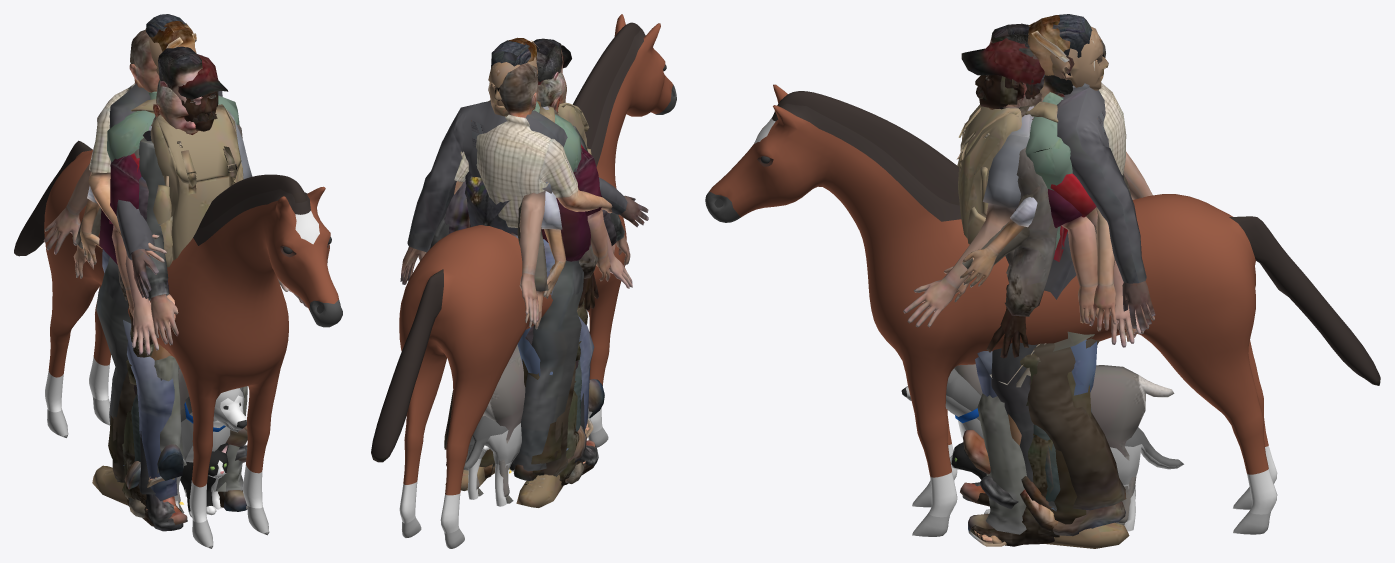
Rendered from walk.glb.
The picture shows the model from 3 angles, left to right: view 1: azimuth 30°, elevation 25°; view 2: azimuth 150°, elevation 25°; view 3: azimuth 270°, elevation 25°; orthographic projection. The views are drawn at different scales.
Visible parts, largest first — view 1: wk_donkey, wk_survie, wk_ped8, wk_ped1, wk_ped3, wk_ped9, wk_ped6, wk_ba, wk_ped2, wk_dog, wk_ped4, wk_ped7 (+3 smaller); view 2: wk_donkey, wk_ped1, wk_ped8, wk_ped9, wk_ped3, wk_survie, wk_ba, wk_dog, wk_goat, wk_ped4, wk_ped7, wk_ped6 (+3 smaller); view 3: wk_donkey, wk_ped3, wk_ped9, wk_ba, wk_survie, wk_ped6, wk_ped8, wk_ped7, wk_goat, wk_ped4, wk_dog, wk_ped1 (+1 smaller).
Part boxes in pixels (x1,y1,x2,y2): wk_donkey: (14, 140, 342, 548); wk_survie: (92, 28, 243, 505); wk_ped8: (88, 30, 247, 525); wk_ped1: (96, 79, 197, 424); wk_ped3: (43, 46, 307, 489); wk_ped9: (109, 14, 247, 531); wk_ped6: (73, 207, 247, 511); wk_ba: (118, 54, 246, 526); wk_ped2: (128, 137, 178, 518); wk_dog: (174, 387, 246, 509); wk_ped4: (80, 21, 247, 508); wk_ped7: (108, 95, 210, 483); wk_donkey: (371, 14, 676, 548); wk_ped1: (493, 72, 610, 480); wk_ped8: (425, 63, 612, 447); wk_ped9: (400, 40, 648, 466); wk_ped3: (444, 38, 586, 476); wk_survie: (445, 57, 591, 507); wk_ba: (465, 45, 598, 485); wk_dog: (463, 309, 587, 506); wk_goat: (467, 344, 525, 503); wk_ped4: (489, 37, 593, 438); wk_ped7: (479, 144, 632, 478); wk_ped6: (517, 198, 604, 419); wk_donkey: (705, 84, 1380, 536); wk_ped3: (903, 23, 1152, 536); wk_ped9: (962, 14, 1155, 509); wk_ba: (961, 38, 1123, 546); wk_survie: (956, 26, 1129, 548); wk_ped6: (944, 75, 1130, 534); wk_ped8: (960, 36, 1126, 506); wk_ped7: (989, 74, 1140, 531); wk_goat: (954, 364, 1174, 525); wk_ped4: (960, 15, 1101, 546); wk_dog: (901, 368, 1183, 531); wk_ped1: (1021, 189, 1098, 508).
Size of the model in its own units: 0.6714 by 1.82 by 2.21.
Materials: 17 (17 with a texture image).
